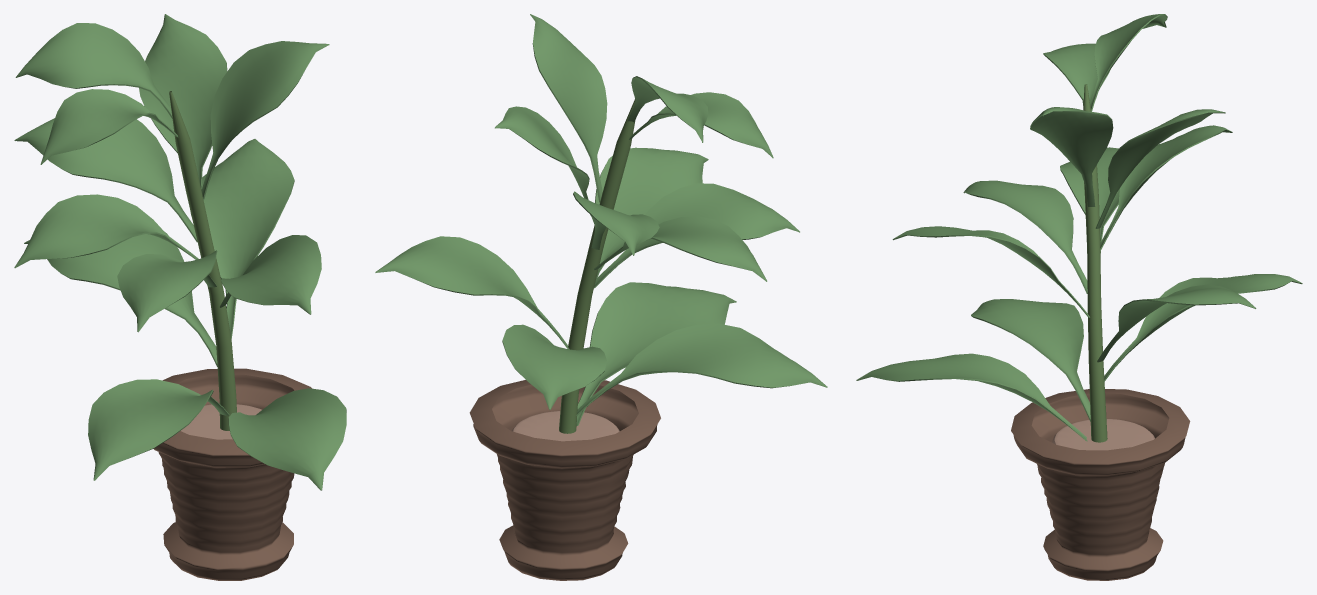
The model's file is Pot with another Plant.fbx.
3 views of the same model, side by side, from view 1: azimuth 30°, elevation 25°; view 2: azimuth 150°, elevation 25°; view 3: azimuth 270°, elevation 25° (orthographic). The views are drawn at different scales.
Parts seen in each view (by area): view 1: rubberPlantPotted1Leaf, rubberPlantPotted1Flower, rubberPlantPotted1Main, pCylinder2; view 2: rubberPlantPotted1Leaf, rubberPlantPotted1Flower, rubberPlantPotted1Main, pCylinder2; view 3: rubberPlantPotted1Leaf, rubberPlantPotted1Flower, rubberPlantPotted1Main, pCylinder2.
Boxes of the visible parts, <box> form: rubberPlantPotted1Leaf: <box>14,14,346,490</box>; rubberPlantPotted1Flower: <box>153,368,311,580</box>; rubberPlantPotted1Main: <box>169,91,236,430</box>; pCylinder2: <box>181,404,261,439</box>; rubberPlantPotted1Leaf: <box>375,14,827,425</box>; rubberPlantPotted1Flower: <box>469,380,660,580</box>; rubberPlantPotted1Main: <box>559,99,635,433</box>; pCylinder2: <box>512,411,619,441</box>; rubberPlantPotted1Leaf: <box>856,14,1302,441</box>; rubberPlantPotted1Flower: <box>1011,389,1190,580</box>; rubberPlantPotted1Main: <box>1083,84,1107,442</box>; pCylinder2: <box>1052,419,1154,450</box>.
Bounding box in the file's own units: 1.08 × 1.75 × 1.43.
